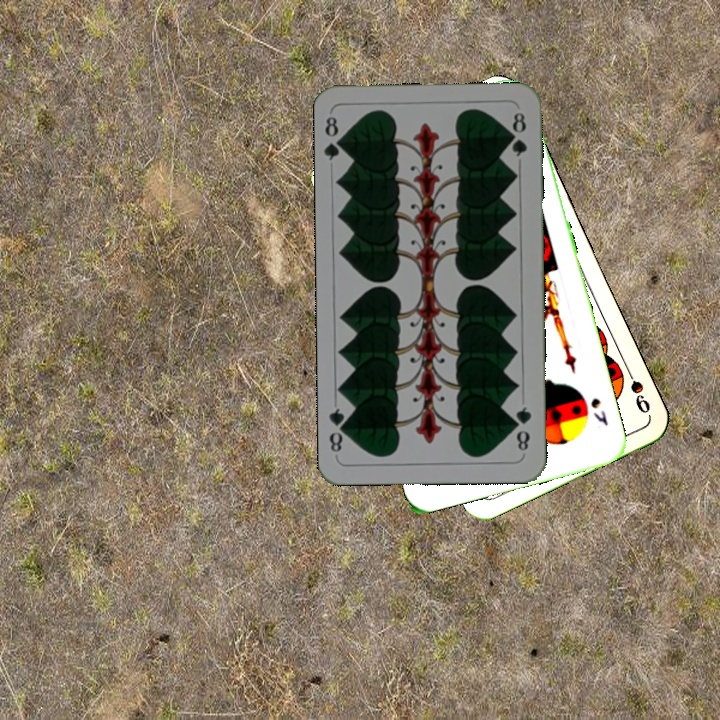G8: (321, 113, 348, 163), (510, 402, 534, 454)
S9: (620, 361, 653, 417)
SK: (586, 393, 611, 428)
